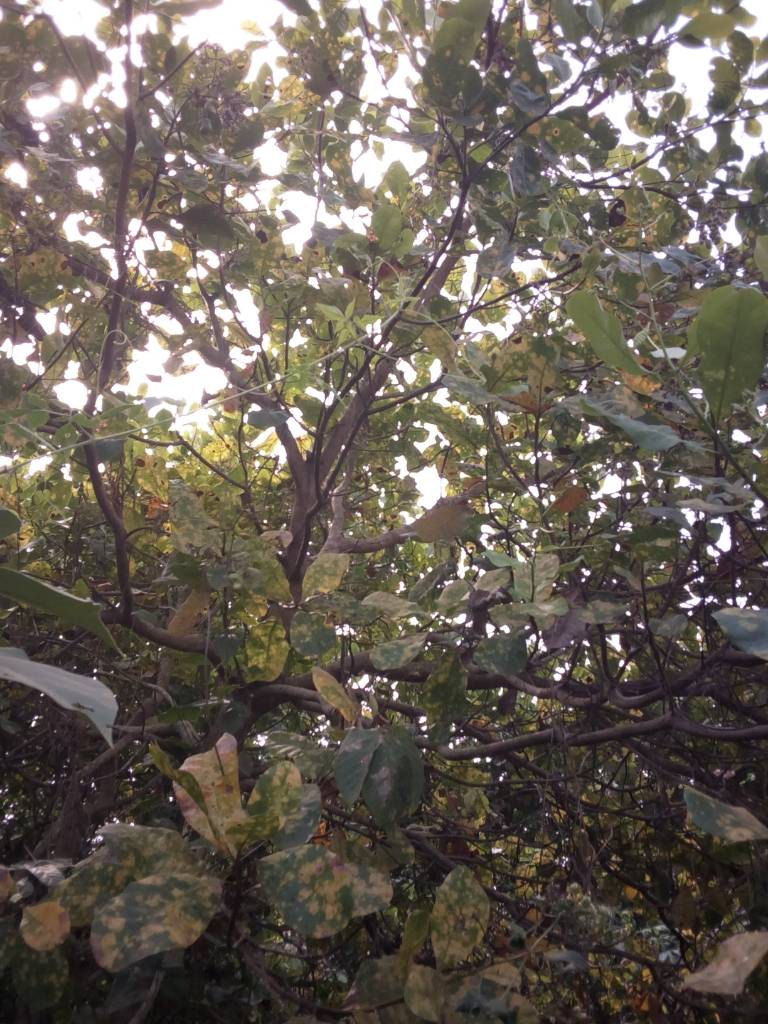Alternariose: (88, 821, 230, 971), (250, 839, 394, 942), (430, 864, 490, 966), (244, 758, 310, 836), (244, 616, 293, 682), (297, 550, 350, 599)
